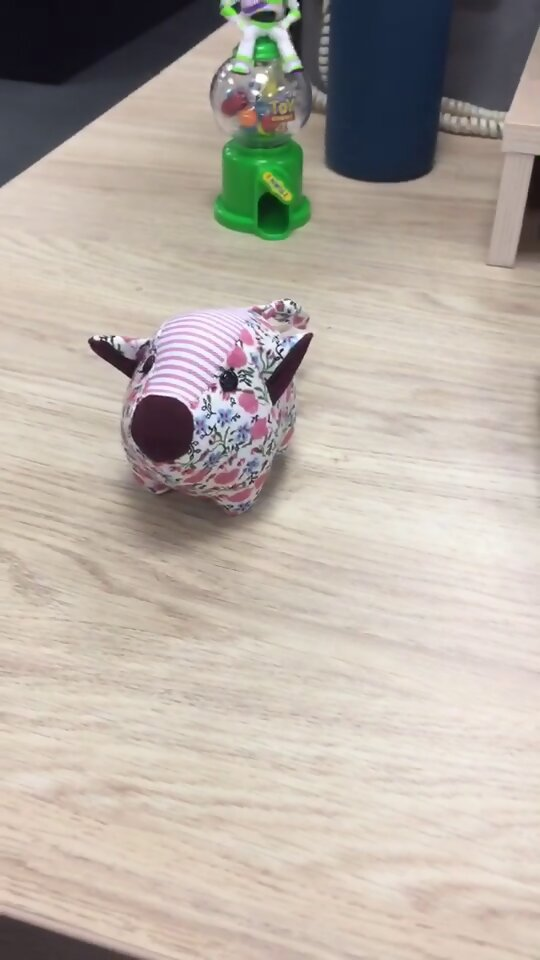pig: (83, 285, 321, 520)
